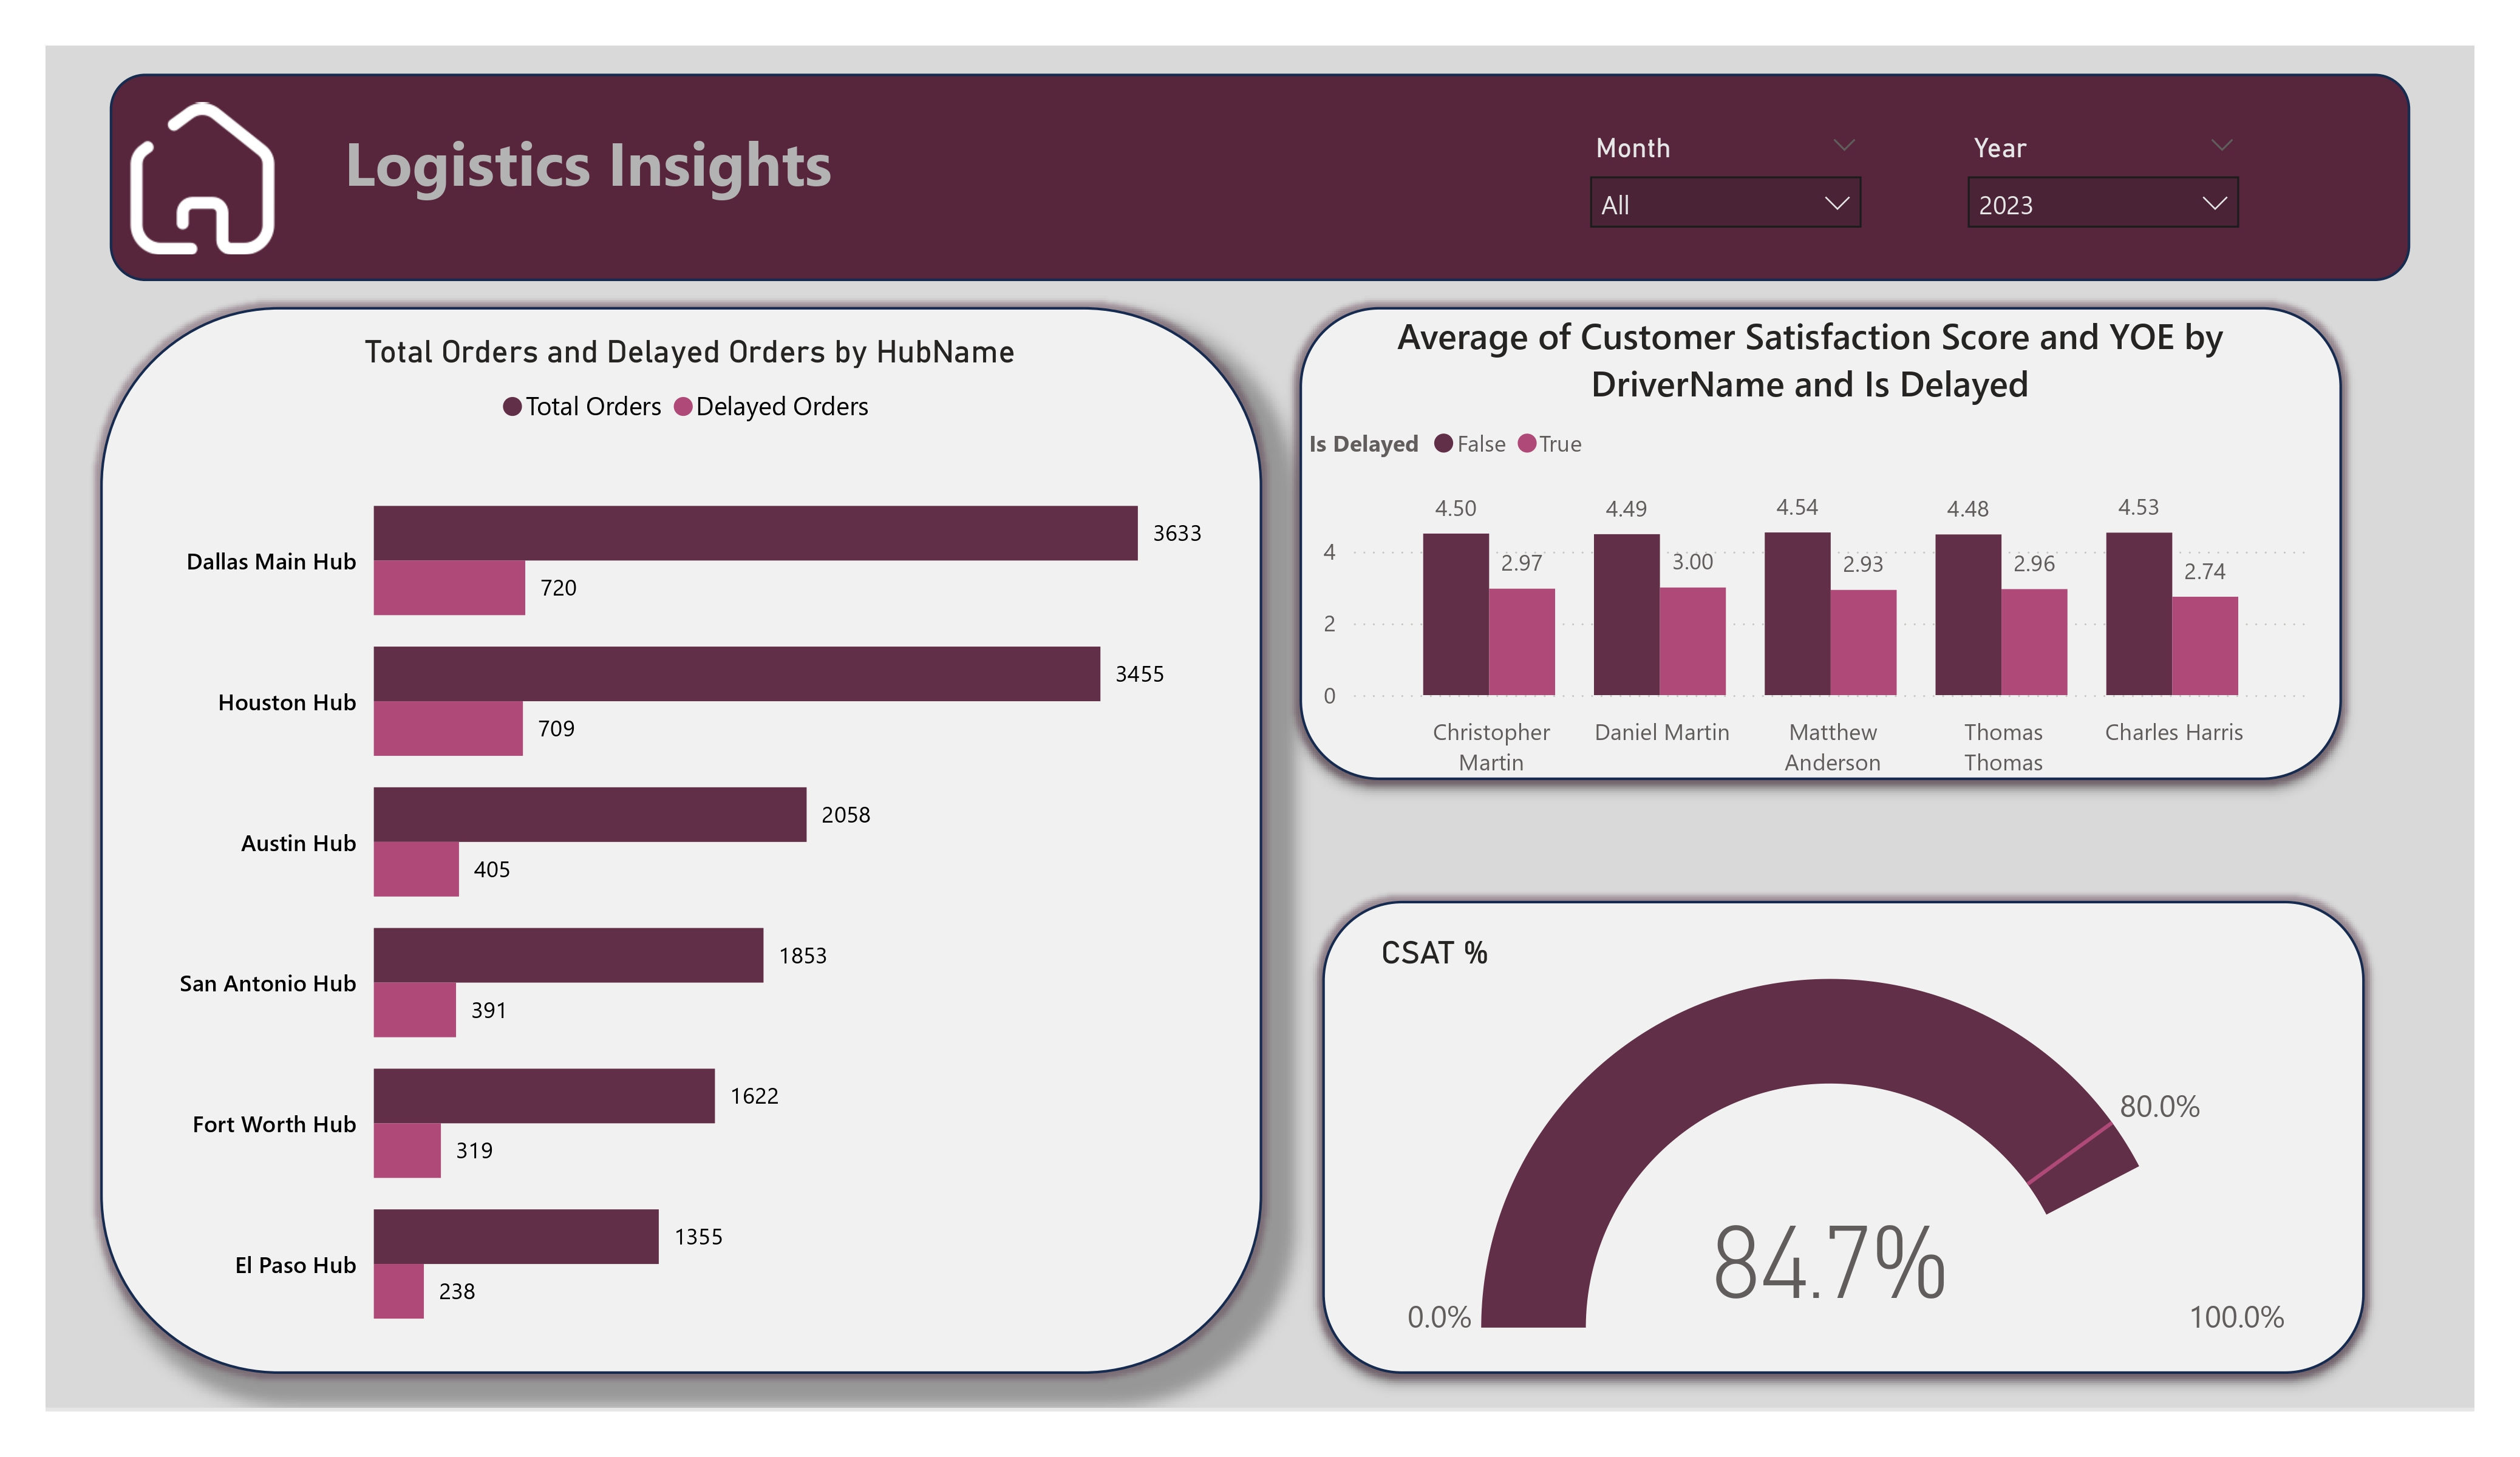

Layout of this report page (visuals, bound fields, positions):
{"tool":"powerbi","page":{"name":"Insights","canvas":[1280,720],"ordinal":6},"visuals":[{"type":"clusteredColumnChart","title":"Average of CSAT Score and YOE by Driver Name ","fields":{"Category":["Drivers.DriverName"],"Y":["Avg(Orders.Customer Satisfaction Score)"],"Series":["Orders.Is Delayed"]},"box":[674.4,174.5,595.5,248.3],"z":0},{"type":"gauge","fields":{"Y":["_Measures.CSAT %"]},"box":[674.4,452.9,595.5,248.3],"z":1000},{"type":"slicer","fields":{"Values":["Date Table.Year"]},"box":[1002.8,41.1,163,73.1],"z":2000},{"type":"slicer","fields":{"Values":["Date Table.Month"]},"box":[803.9,41.1,163,73.1],"z":3000},{"type":"clusteredBarChart","fields":{"Category":["Hubs.HubName"],"Y":["_Measures.Total Orders","_Measures.Delayed Orders"]},"box":[19.6,160.9,630.4,558.7],"z":4000},{"type":"image","box":[175,71.3,50.8,50.8],"z":5000},{"type":"textbox","box":[166.5,24.5,240.1,61.3],"z":6000},{"type":"image","box":[84,23.8,82.4,91.9],"z":7000},{"type":"image","box":[3.2,49.1,90.3,50.7],"z":8000}]}

Visuals, with their boxes on the page's 1280x720 design canvas (x1, y1, x2, y2). These are canvas units, not pixel positions in the 2520x1457 screenshot, which may show the page scaled, cropped or inside an application window:
"Average of CSAT Score and YOE by Driver Name " clusteredColumnChart: x1=674, y1=174, x2=1270, y2=423
gauge - _Measures.CSAT %: x1=674, y1=453, x2=1270, y2=701
slicer - Date Table.Year: x1=1003, y1=41, x2=1166, y2=114
slicer - Date Table.Month: x1=804, y1=41, x2=967, y2=114
clusteredBarChart - Hubs.HubName x _Measures.Total Orders: x1=20, y1=161, x2=650, y2=720
image: x1=175, y1=71, x2=226, y2=122
textbox: x1=166, y1=24, x2=407, y2=86
image: x1=84, y1=24, x2=166, y2=116
image: x1=3, y1=49, x2=94, y2=100
